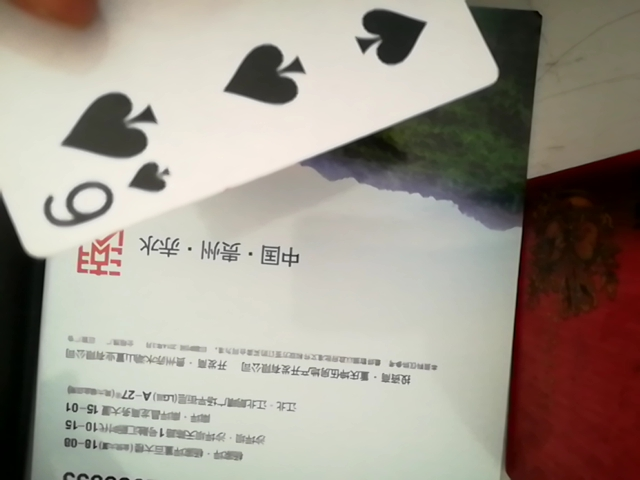ht 6: (2, 1, 513, 254)
